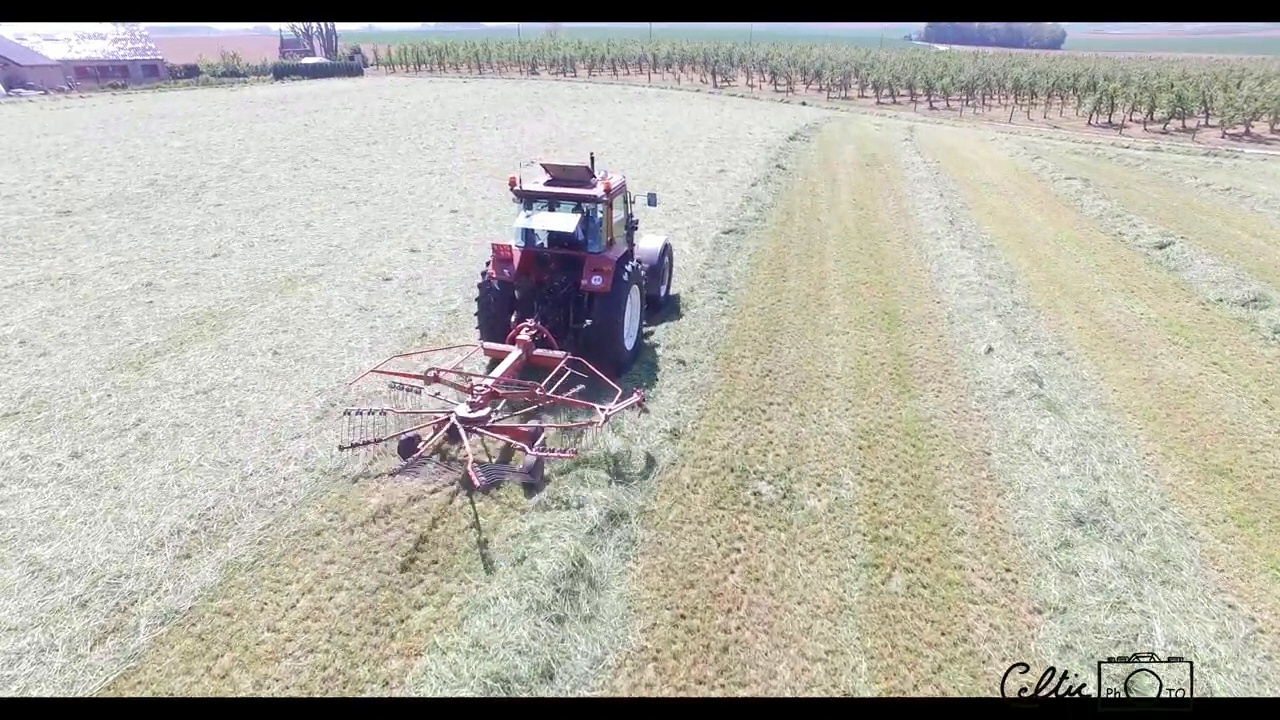traktor: (478, 149, 670, 373)
